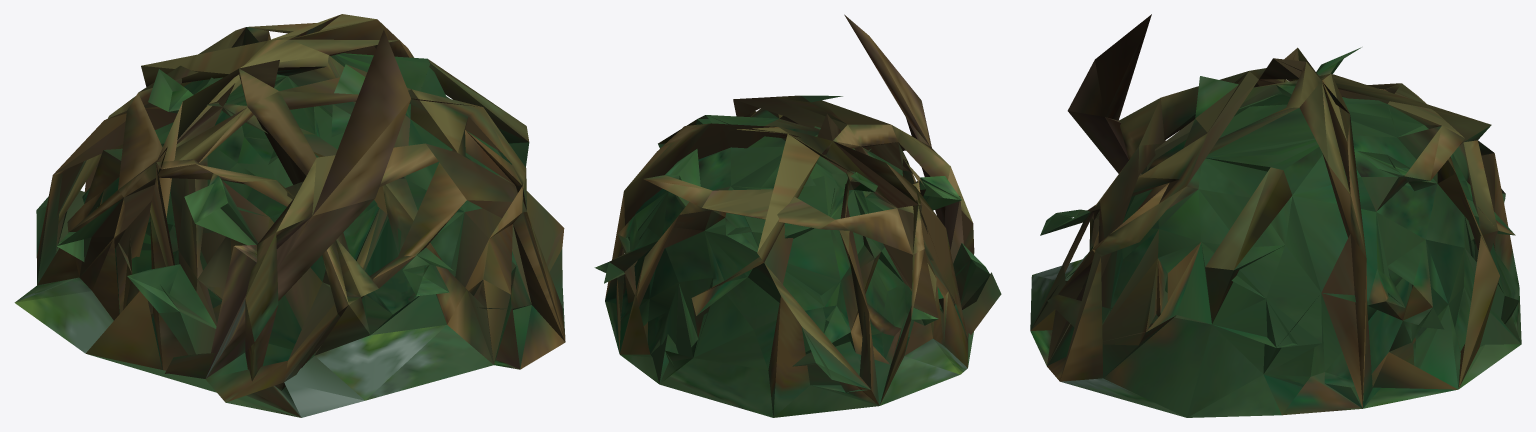
The picture shows the model from 3 angles, left to right: view 1: azimuth 30°, elevation 25°; view 2: azimuth 150°, elevation 25°; view 3: azimuth 270°, elevation 25°; orthographic projection. The views are drawn at different scales.
Parts seen in each view (by area): view 1: bramble; view 2: bramble; view 3: bramble.
Part boxes in pixels (box(x1,y1,x2,y2)): bramble: box(14, 14, 565, 417); bramble: box(594, 14, 1001, 417); bramble: box(1030, 14, 1521, 417).
Size of the model in its own units: 0.936 by 0.6436 by 0.8917.
Materials: 1 (1 with a texture image).
